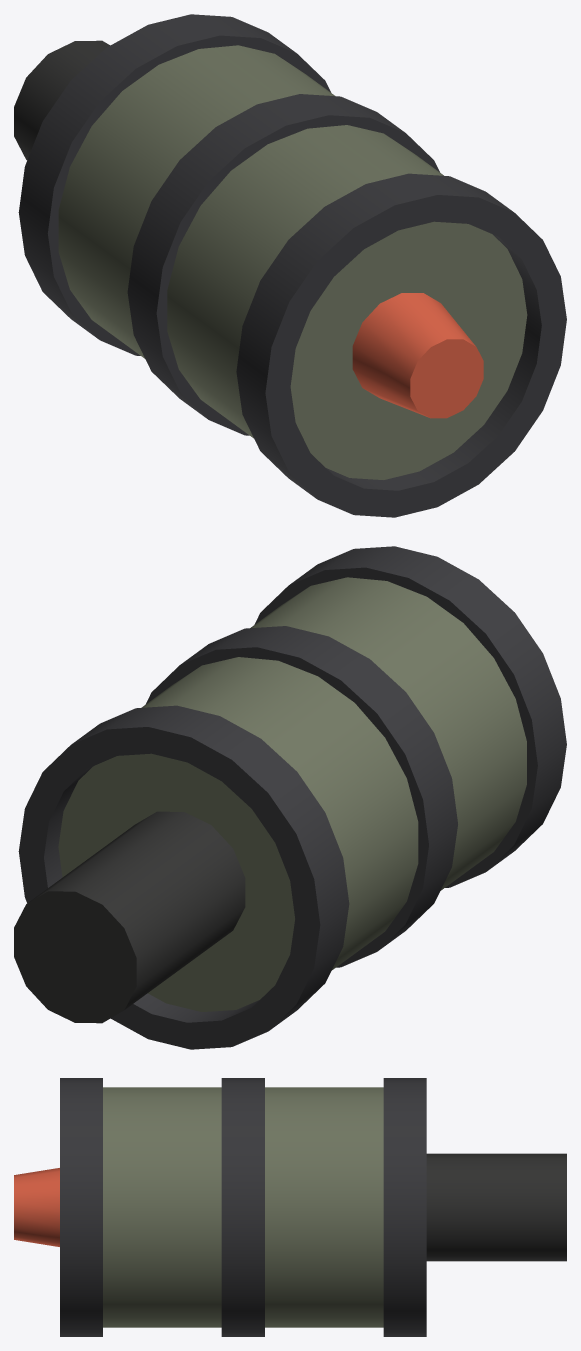
Rendered from dng.glb.
3 renders of one model, top to bottom at view 1: azimuth 30°, elevation 25°; view 2: azimuth 150°, elevation 25°; view 3: azimuth 270°, elevation 25°, orthographic. The views are drawn at different scales.
Parts seen in each view (by area): view 1: Body; view 2: Body; view 3: Body.
Part boxes in pixels (box(x1,y1,x2,y2)): Body: box(14, 14, 566, 517); Body: box(14, 546, 566, 1049); Body: box(14, 1078, 566, 1336).
Size of the model in its own units: 0.096 by 0.095 by 0.205.
